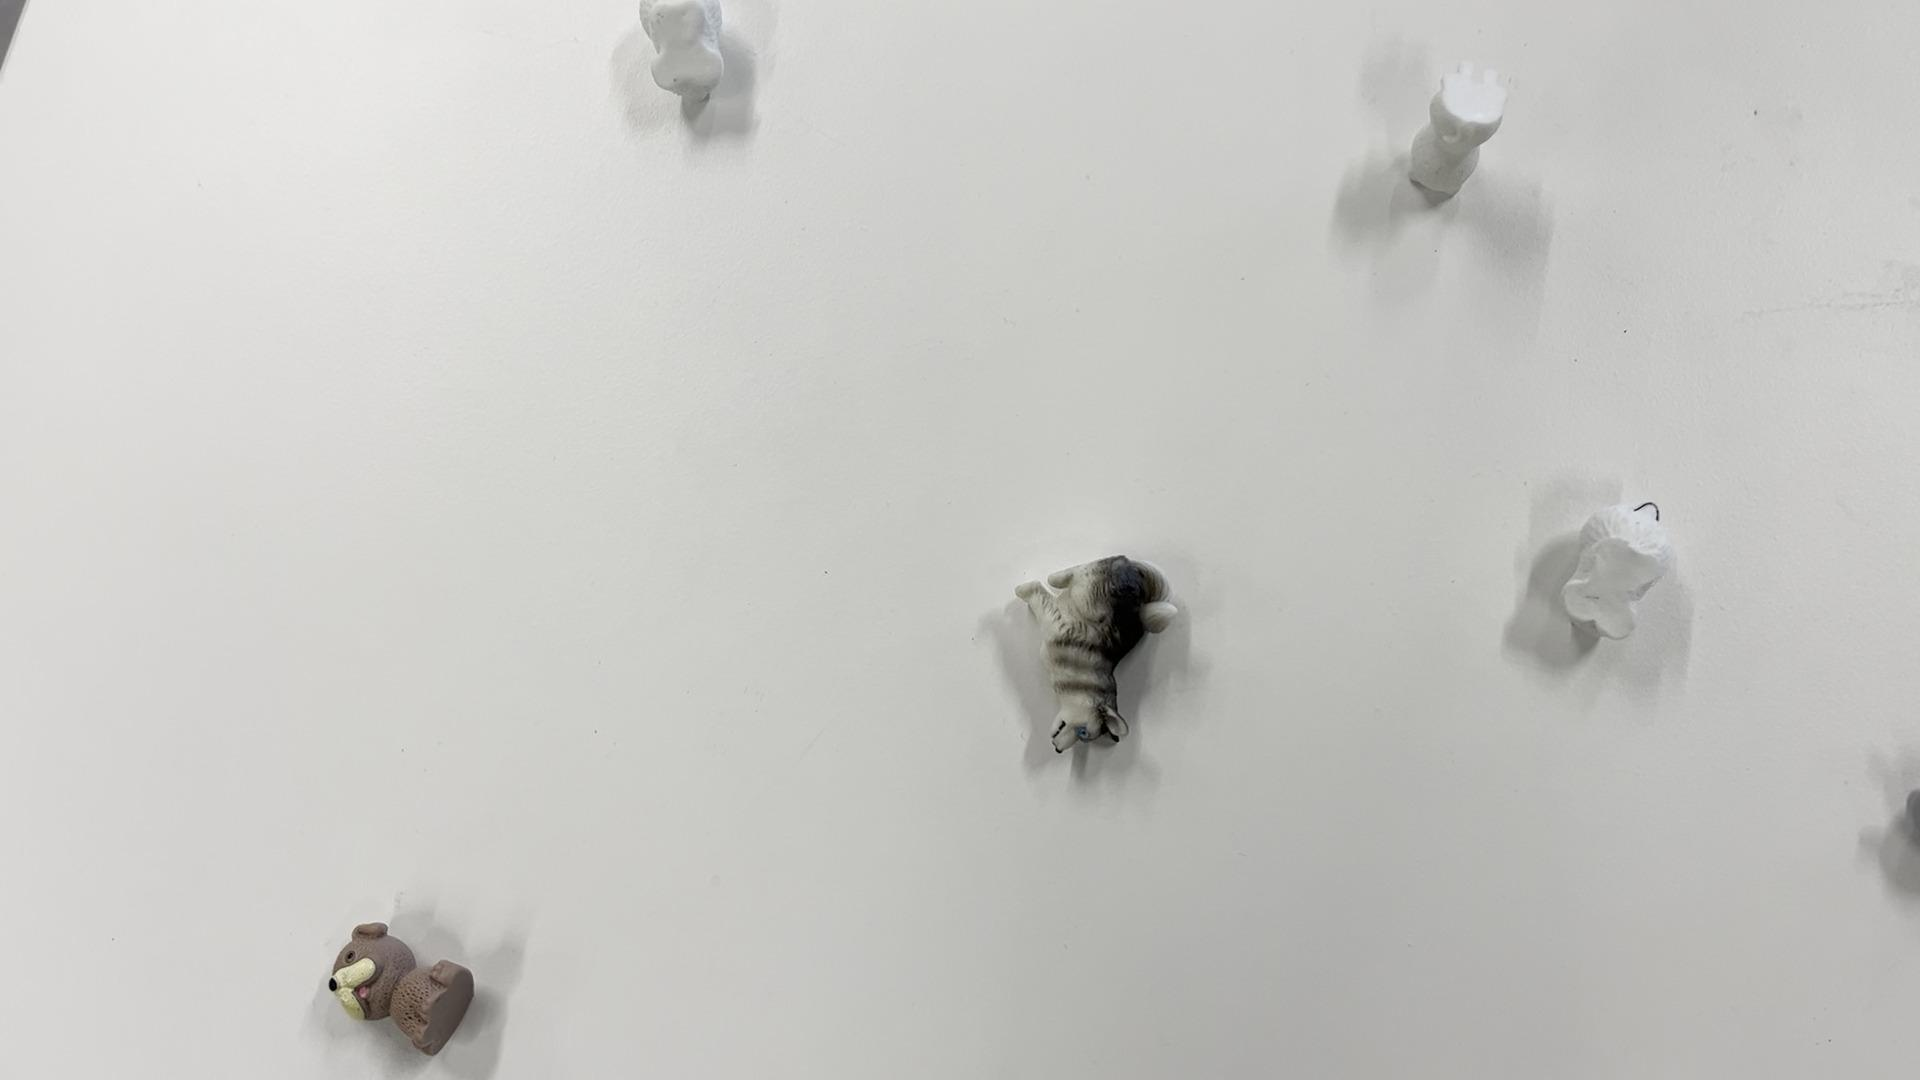pet: (994, 535, 1193, 786), (322, 915, 485, 1080), (1528, 483, 1692, 640), (1402, 59, 1510, 228)
